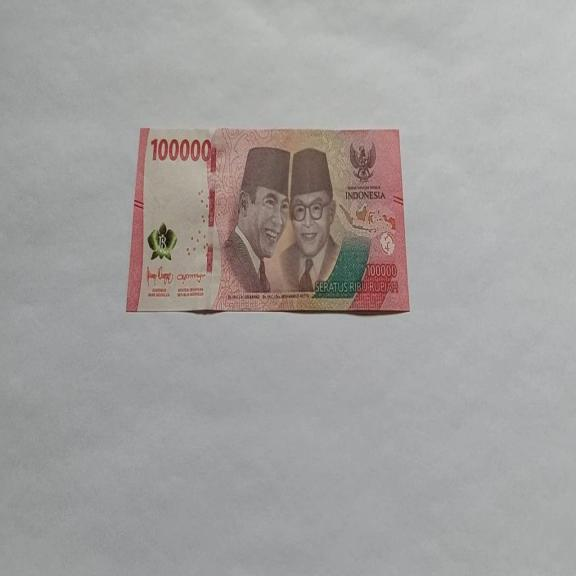Kertas: (126, 125, 410, 314)
